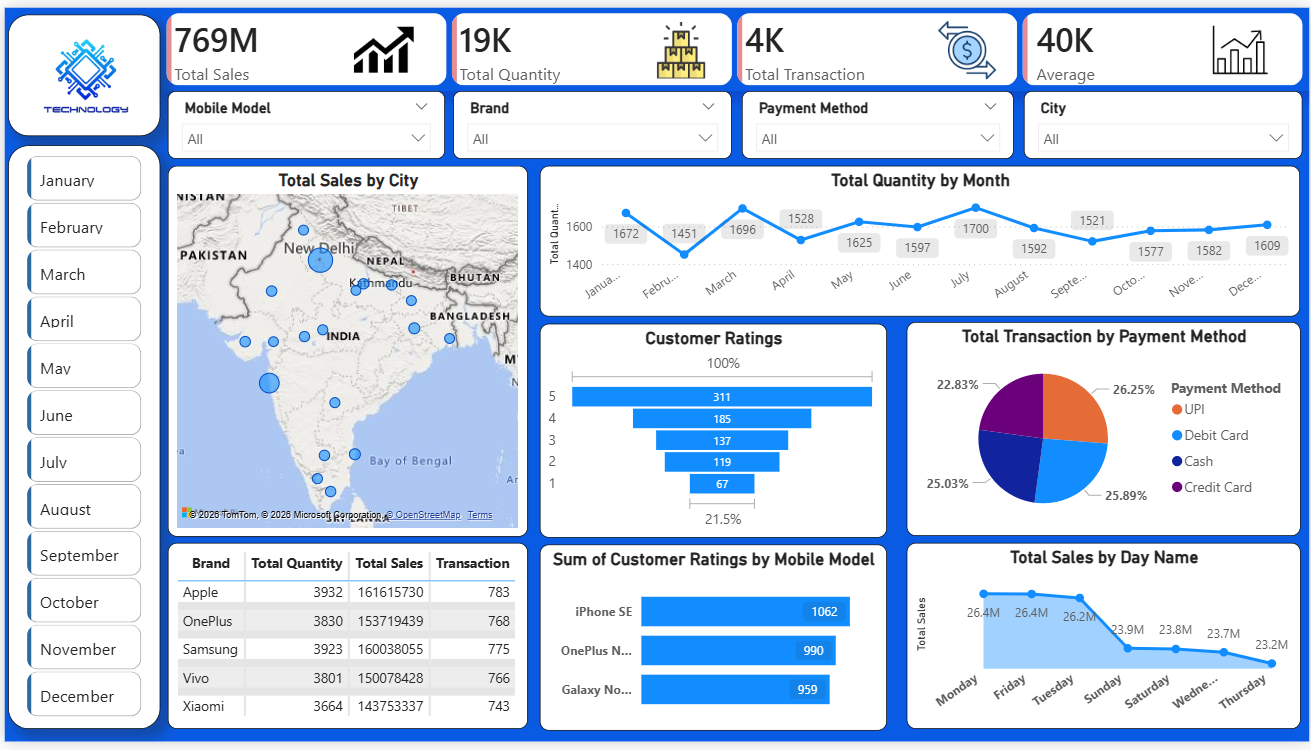

Layout of this report page (visuals, bound fields, positions):
{"tool":"powerbi","page":{"name":"Page 1","canvas":[1280,720],"ordinal":0},"visuals":[{"type":"shape","box":[3.2,6.4,149.5,119.3],"z":0},{"type":"image","box":[15.9,0,122.5,133.6],"z":1000},{"type":"shape","box":[3.2,135.2,149.5,572.6],"z":2000},{"type":"advancedSlicerVisual","fields":{"Values":["Sales Data.Date.Variation.Date Hierarchy.Month"]},"box":[17.5,140,122.5,566.3],"z":3000},{"type":"cardVisual","fields":{"Data":["Sales Data.Total Sales","Sales Data.Total Quantity","Sales Data.Total Transaction","Sales Data.Average"]},"box":[152.7,0,1127.7,81.1],"z":4000},{"type":"map","fields":{"Category":["Sales Data.City"],"Size":["Sales Data.Total Sales"]},"box":[160.7,154.3,353.1,364.2],"z":5000},{"type":"lineChart","fields":{"Y":["Sales Data.Total Quantity"],"Category":["Sales Data.Date.Variation.Date Hierarchy.Month","Sales Data.Date.Variation.Date Hierarchy.Day"]},"box":[524.9,154.3,746,147.9],"z":6000},{"type":"tableEx","fields":{"Values":["Sales Data.Brand","Sales Data.Total Quantity","Sales Data.Total Sales","Sales Data.Total Transaction"]},"box":[160.7,524.9,353.1,182.9],"z":7000},{"type":"pieChart","fields":{"Category":["Sales Data.Payment Method"],"Y":["Sales Data.Total Transaction"]},"box":[884.4,308.6,386.5,210],"z":8000},{"type":"funnel","title":"Customer Ratings","fields":{"Category":["Sales Data.Customer Ratings"],"Y":["CountNonNull(Sales Data.Customer Ratings)"]},"box":[524.9,310.2,340.4,210],"z":9000},{"type":"areaChart","fields":{"Category":["Sales Data.Day Name"],"Y":["Sales Data.Total Sales"]},"box":[884.4,524.9,386.5,182.9],"z":9001},{"type":"barChart","fields":{"Category":["Sales Data.Mobile Model"],"Y":["Sum(Sales Data.Customer Ratings)"]},"box":[524.9,526.5,340.4,182.9],"z":9002},{"type":"slicer","fields":{"Values":["Sales Data.Mobile Model"]},"box":[160,81.7,271.7,66.7],"z":9003},{"type":"slicer","fields":{"Values":["Sales Data.Brand"]},"box":[440,81.7,273.3,66.7],"z":9004},{"type":"slicer","fields":{"Values":["Sales Data.Payment Method"]},"box":[723.3,81.7,266.7,66.7],"z":9005},{"type":"slicer","fields":{"Values":["Sales Data.City"]},"box":[1000,81.7,273.3,66.7],"z":9006}]}

Visuals, with their boxes in screenshot pixels (x1, y1, x2, y2), scaled from the page's 1280x720 canvas onto the 1311x750 screenshot:
shape: left=3, top=7, right=156, bottom=131
image: left=16, top=0, right=142, bottom=139
shape: left=3, top=141, right=156, bottom=737
advancedSlicerVisual - Sales Data.Date.Variation.Date Hierarchy.Month: left=18, top=146, right=143, bottom=736
cardVisual - Sales Data.Total Sales x Sales Data.Total Quantity: left=156, top=0, right=1310, bottom=84
map - Sales Data.City x Sales Data.Total Sales: left=165, top=161, right=526, bottom=540
lineChart - Sales Data.Total Quantity x Sales Data.Date.Variation.Date Hierarchy.Month: left=538, top=161, right=1302, bottom=315
tableEx - Sales Data.Brand x Sales Data.Total Quantity: left=165, top=547, right=526, bottom=737
pieChart - Sales Data.Payment Method x Sales Data.Total Transaction: left=906, top=321, right=1302, bottom=540
"Customer Ratings" funnel: left=538, top=323, right=886, bottom=542
areaChart - Sales Data.Day Name x Sales Data.Total Sales: left=906, top=547, right=1302, bottom=737
barChart - Sales Data.Mobile Model x Sum(Sales Data.Customer Ratings): left=538, top=548, right=886, bottom=739
slicer - Sales Data.Mobile Model: left=164, top=85, right=442, bottom=155
slicer - Sales Data.Brand: left=451, top=85, right=731, bottom=155
slicer - Sales Data.Payment Method: left=741, top=85, right=1014, bottom=155
slicer - Sales Data.City: left=1024, top=85, right=1304, bottom=155
